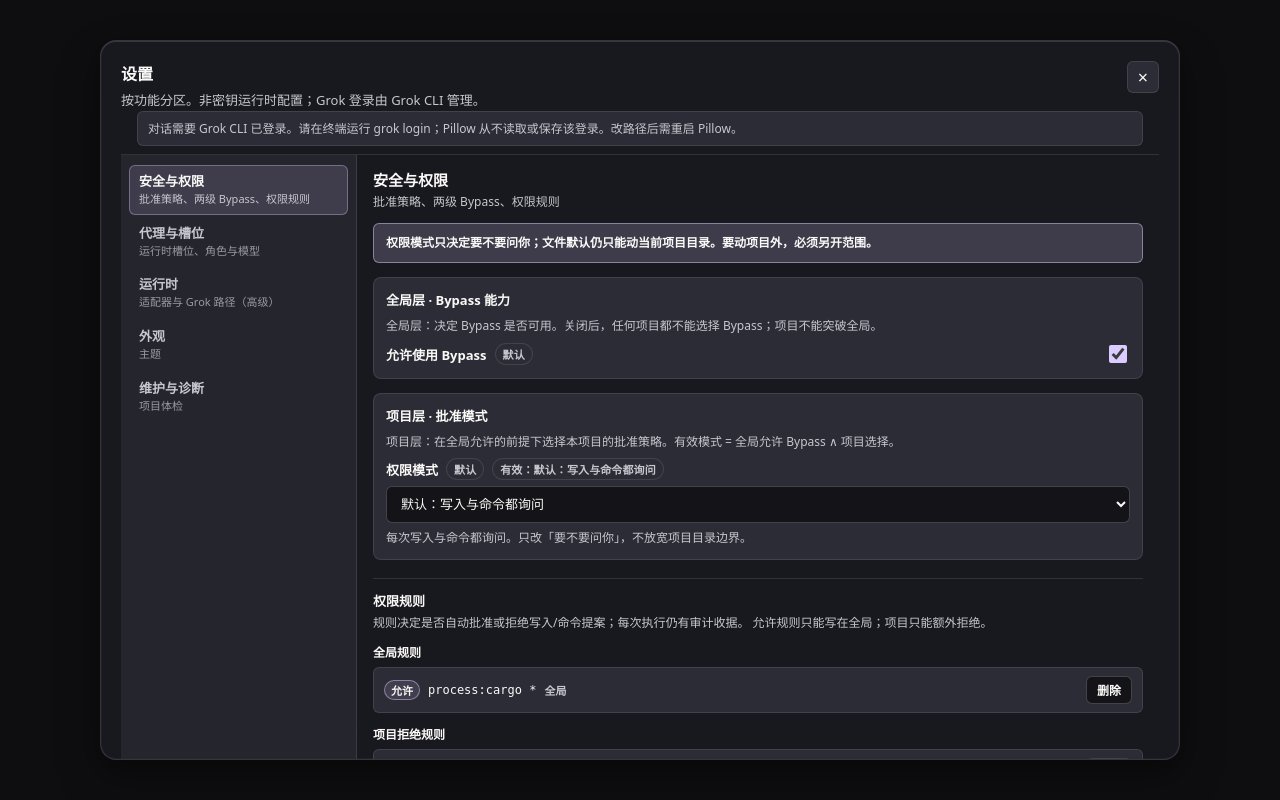
Scenario: Permission rules — settings list › 1 — renders global and project rules and deletes a rule
The image size is (1280, 800).
Expected: the text with test id "permission-rule-pattern" reads "process:cargo *", [428,683,536,697]
Expected: the text with test id "permission-rule-action" reads "允许", [391,683,413,698]
Click the button with test id "permission-rule-delete".
click(1109, 690)  # box [1086,676,1132,704]
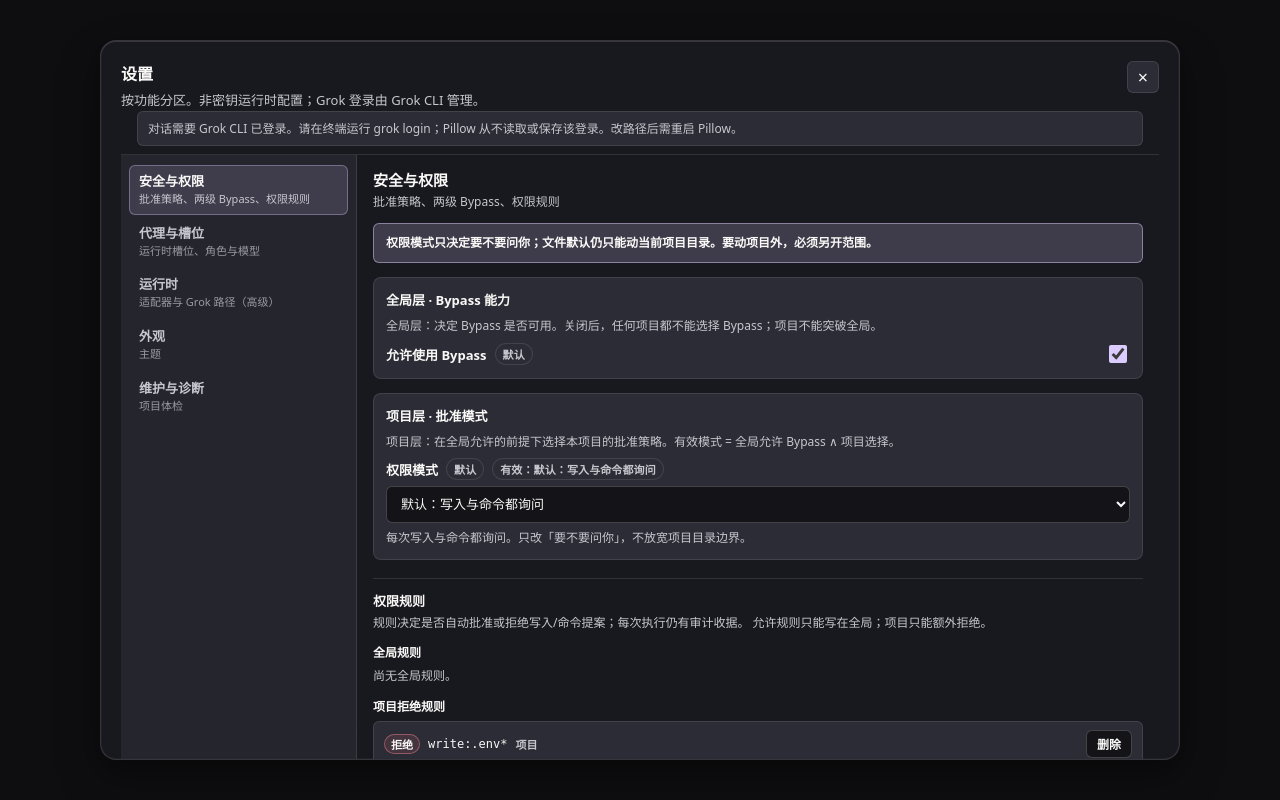
Expected: the list with test id "permission-rules-project-list" is shown, [373,721,1143,759]
Now the list with test id "permission-rules-global-list" is gone
